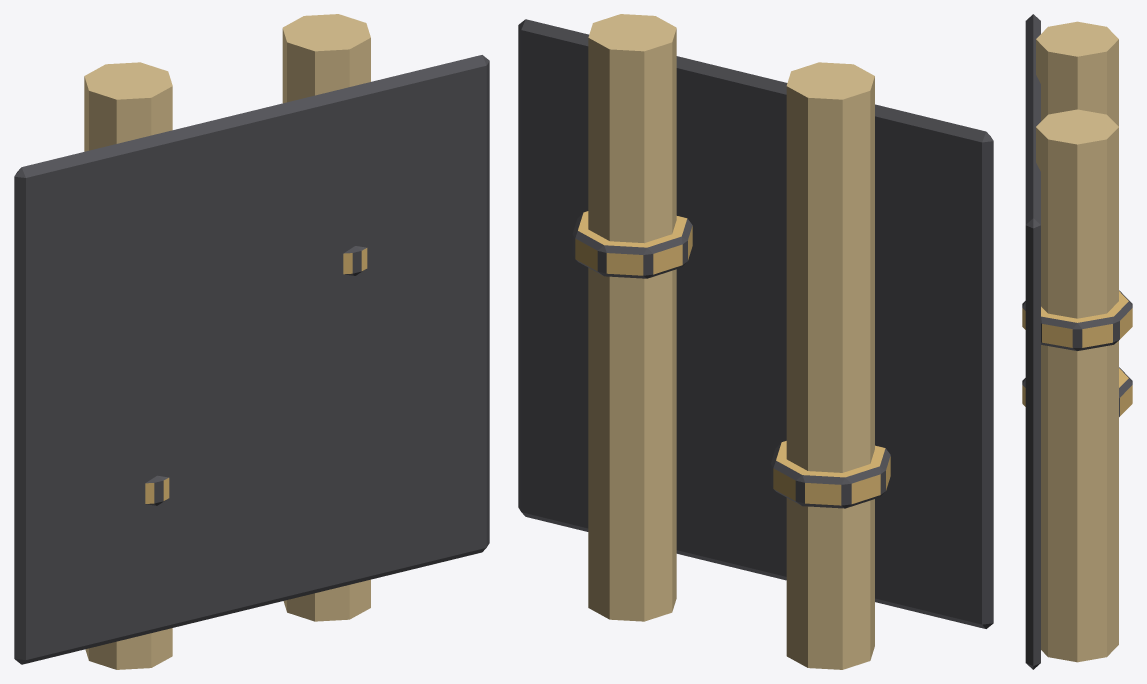
File: Fill_Pipes.fbx
3 views of the same model, side by side, from view 1: azimuth 30°, elevation 25°; view 2: azimuth 150°, elevation 25°; view 3: azimuth 270°, elevation 25° (orthographic). The views are drawn at different scales.
Parts seen in each view (by area): view 1: Fill_Pipes; view 2: Fill_Pipes; view 3: Fill_Pipes.
Boxes of the visible parts, <box> form: Fill_Pipes: <box>14,14,489,669</box>; Fill_Pipes: <box>518,14,993,669</box>; Fill_Pipes: <box>1022,14,1132,669</box>.
Bounding box in the file's own units: 0.96 × 1.1 × 0.2123.
